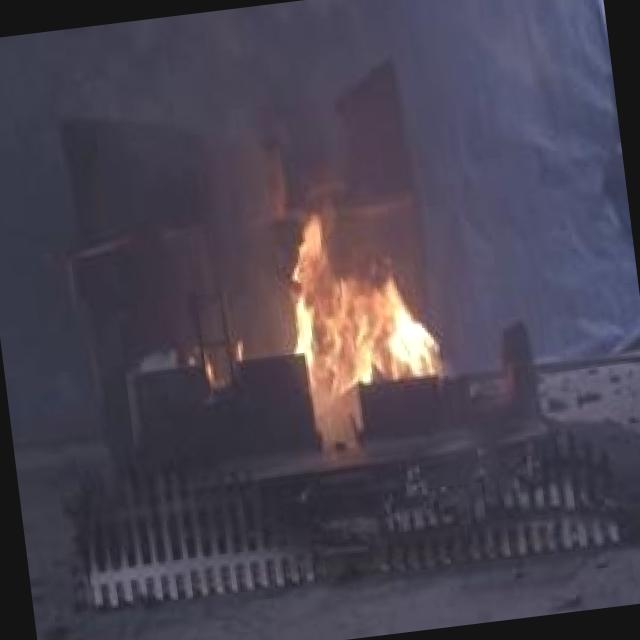fire: (238, 168, 464, 422)
